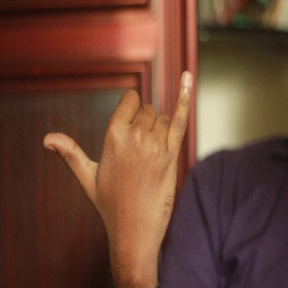J: (40, 63, 200, 250)
